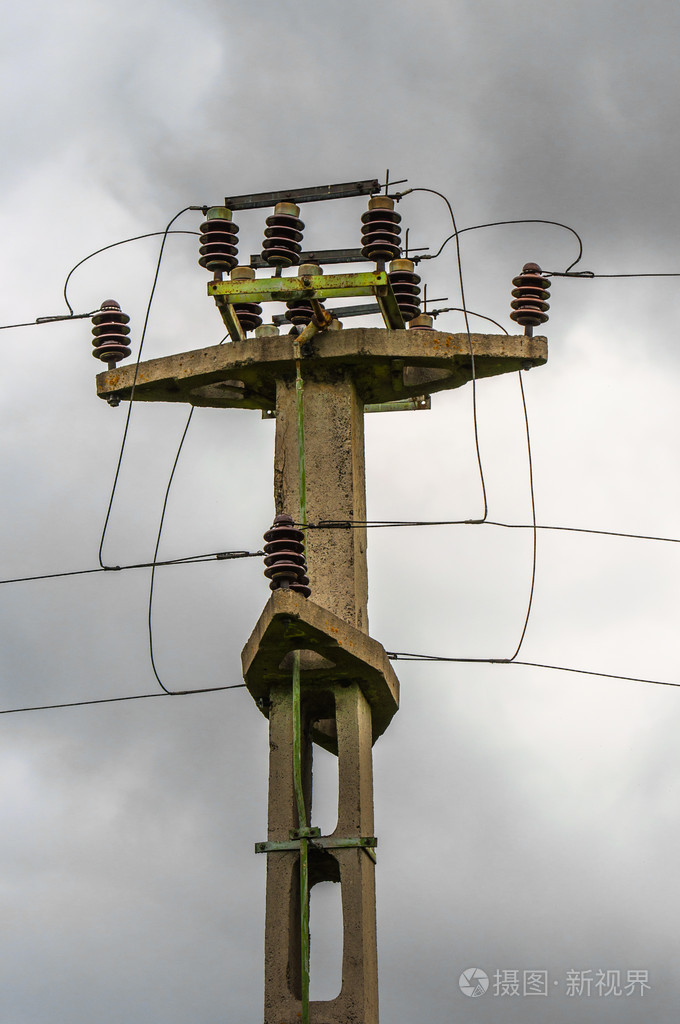insulator: (259, 213, 305, 267), (196, 217, 240, 273), (86, 309, 134, 359), (357, 210, 407, 256), (509, 275, 554, 325), (264, 524, 303, 575), (388, 271, 421, 318), (229, 301, 264, 330), (283, 299, 318, 317)
